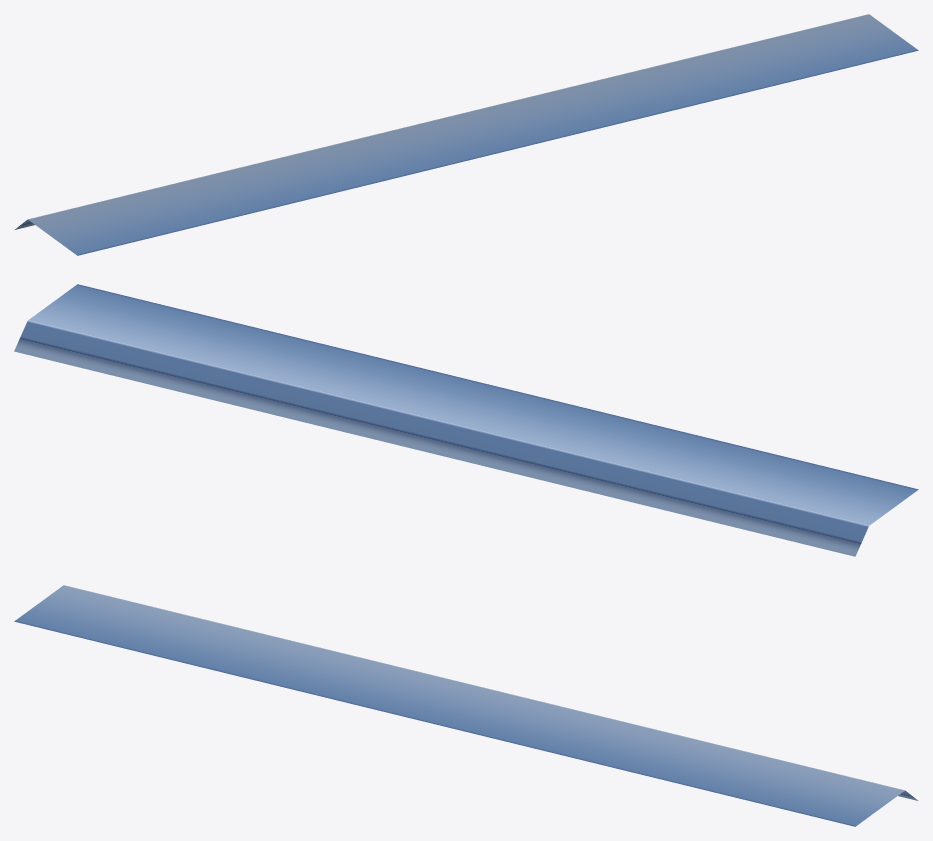
3 views of the same model, one above another, from view 1: azimuth 30°, elevation 25°; view 2: azimuth 150°, elevation 25°; view 3: azimuth 330°, elevation 25° (orthographic).
Visible parts, largest first — view 1: BaseGround__1_; view 2: BaseGround__1_; view 3: BaseGround__1_.
Boxes of the visible parts, bbox=[...] form: BaseGround__1_: bbox=[15, 14, 918, 255]; BaseGround__1_: bbox=[14, 284, 918, 556]; BaseGround__1_: bbox=[14, 585, 917, 826].
Bounding box in the file's own units: 2095 × 49.66 × 274.
